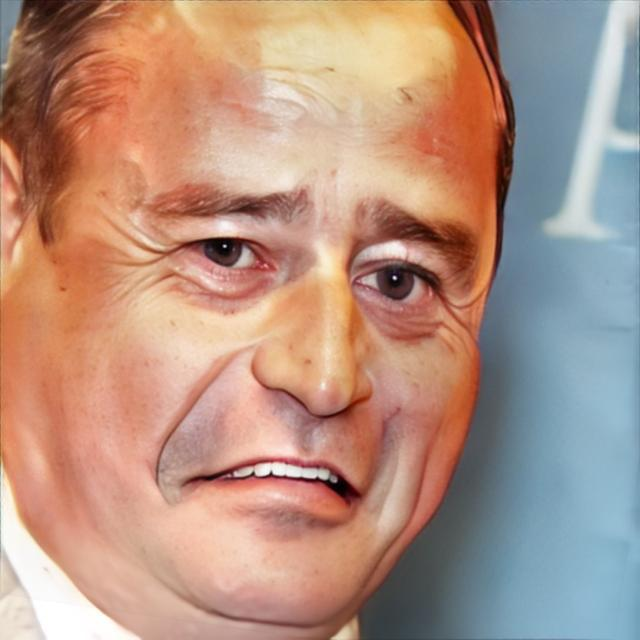sad: (26, 1, 498, 628)
